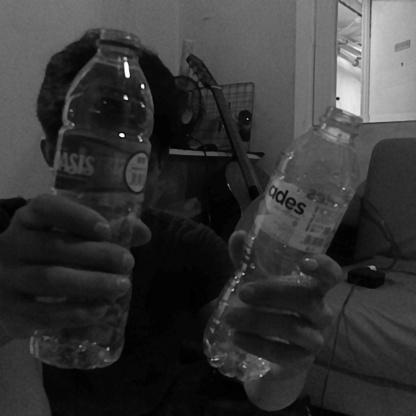plastic_bottles: (34, 30, 156, 361), (208, 109, 362, 369)
